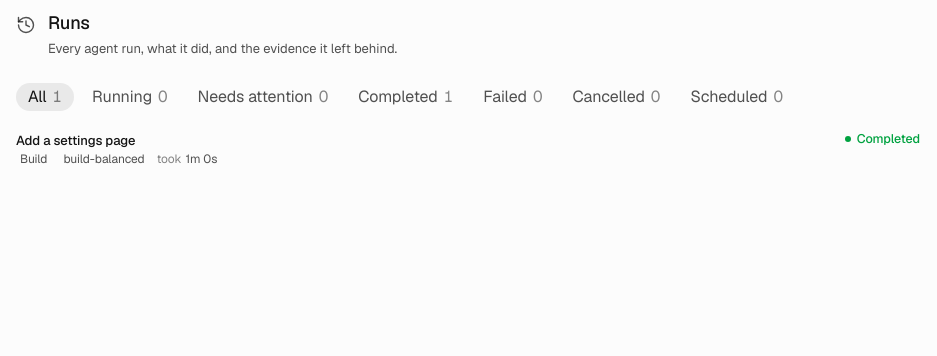
Test: Runs destination › explains an empty filter differently from an empty account
Click the button "Failed 0" at {"x": 513, "y": 97}, box [471,83,554,111]
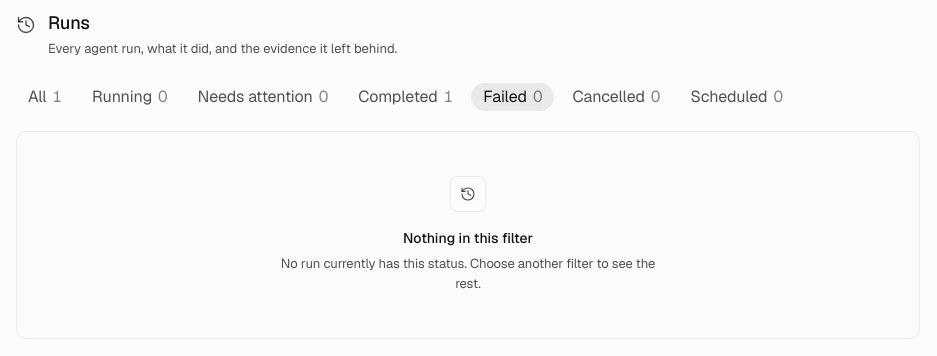
expect the heading "Nothing in this filter" is shown: met, box [403,228,533,248]
